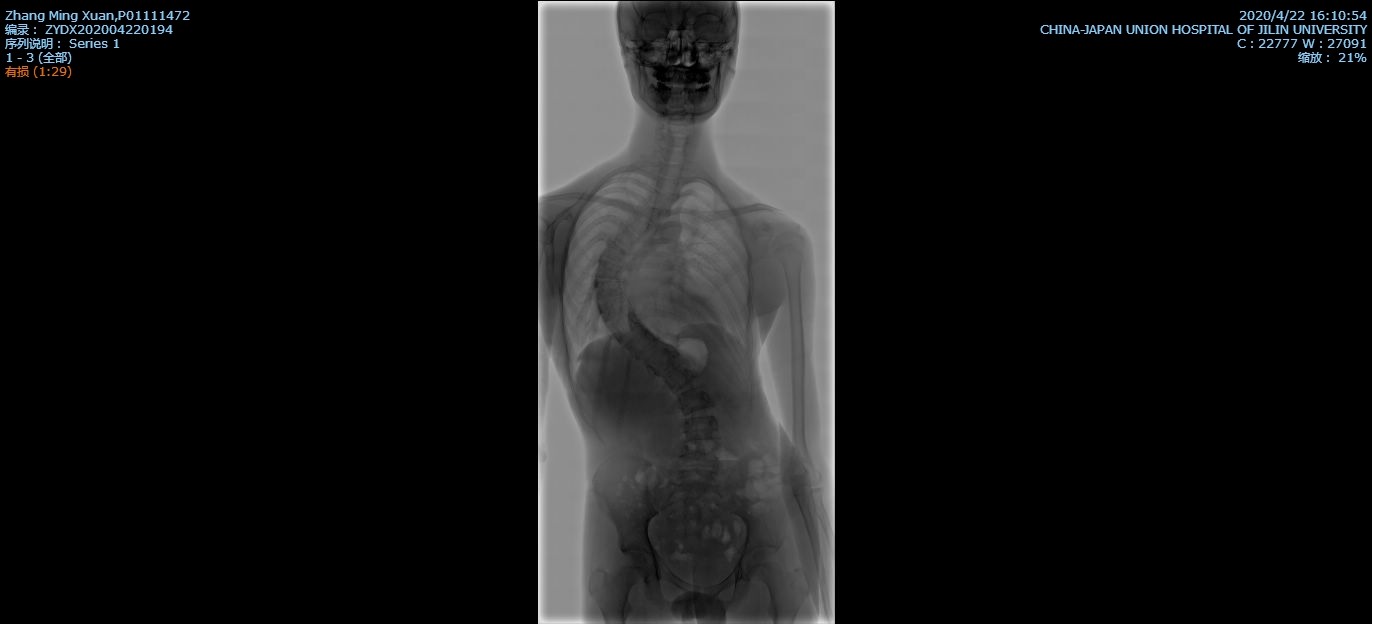Bone: (679, 450, 717, 471), (684, 419, 718, 438), (679, 392, 710, 411), (626, 333, 651, 354), (650, 348, 673, 369), (667, 370, 690, 389), (594, 282, 621, 297), (595, 262, 620, 278), (609, 317, 637, 330), (598, 302, 630, 313), (623, 215, 646, 229), (615, 231, 636, 244), (603, 247, 622, 259)
